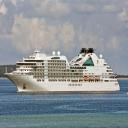cruises: (5, 42, 125, 95)
